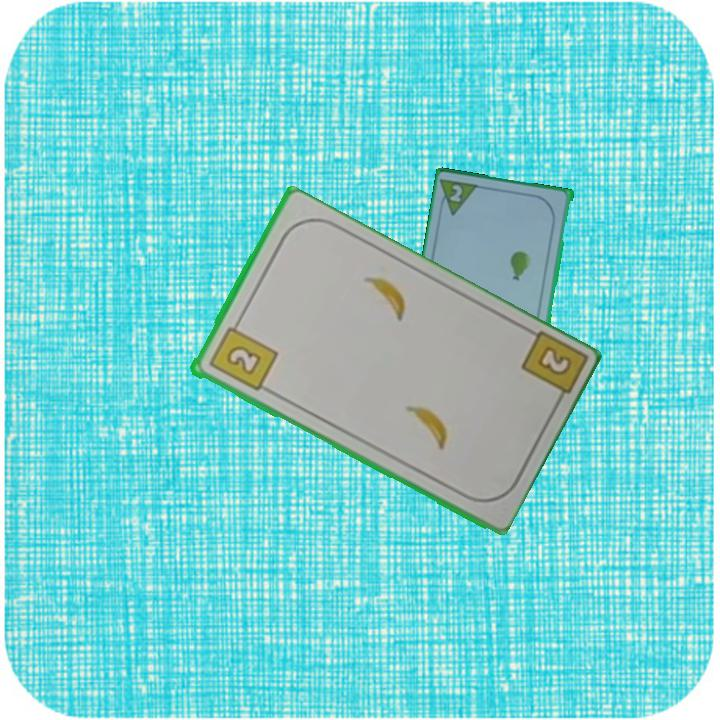2b: (205, 316, 280, 395), (533, 342, 575, 379)
2p: (436, 176, 483, 219)
